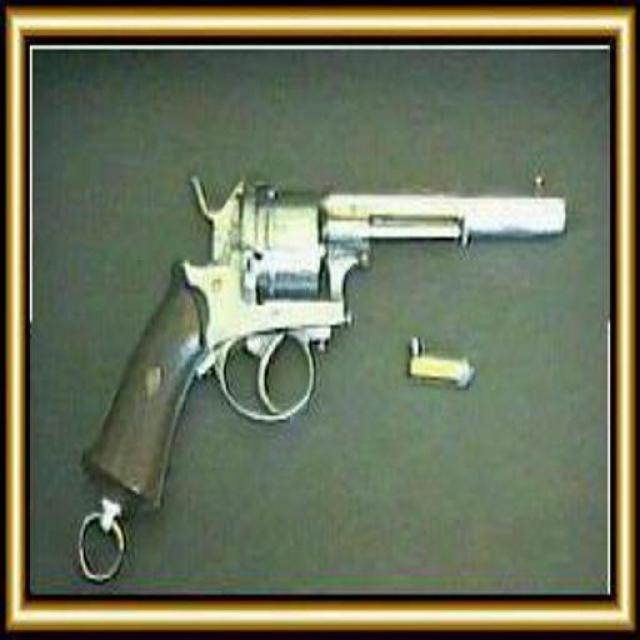pistol: (79, 169, 574, 519)
